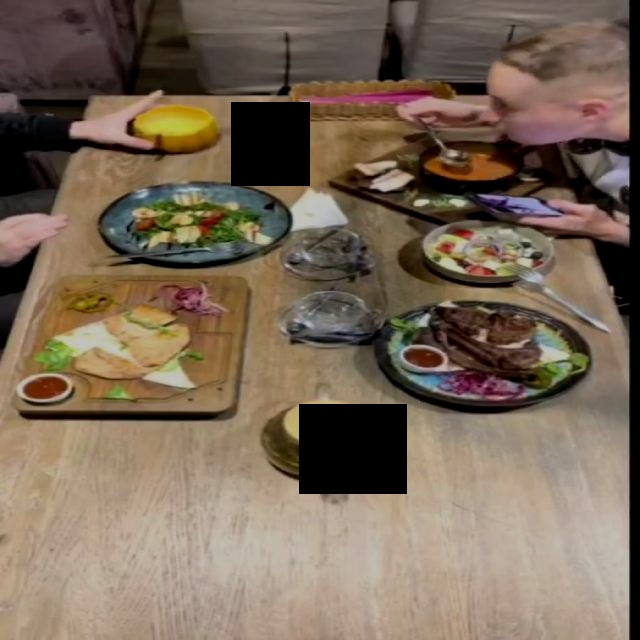meat: (6, 273, 260, 419), (371, 301, 595, 407)
salad: (99, 180, 291, 263), (421, 219, 557, 283)
soup: (328, 135, 565, 225), (130, 105, 217, 152)
tea: (247, 370, 407, 506)
